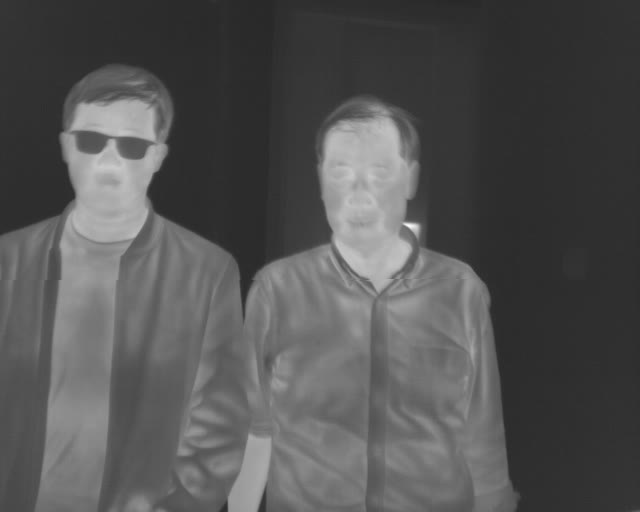face: (58, 63, 173, 220), (314, 94, 422, 251)
